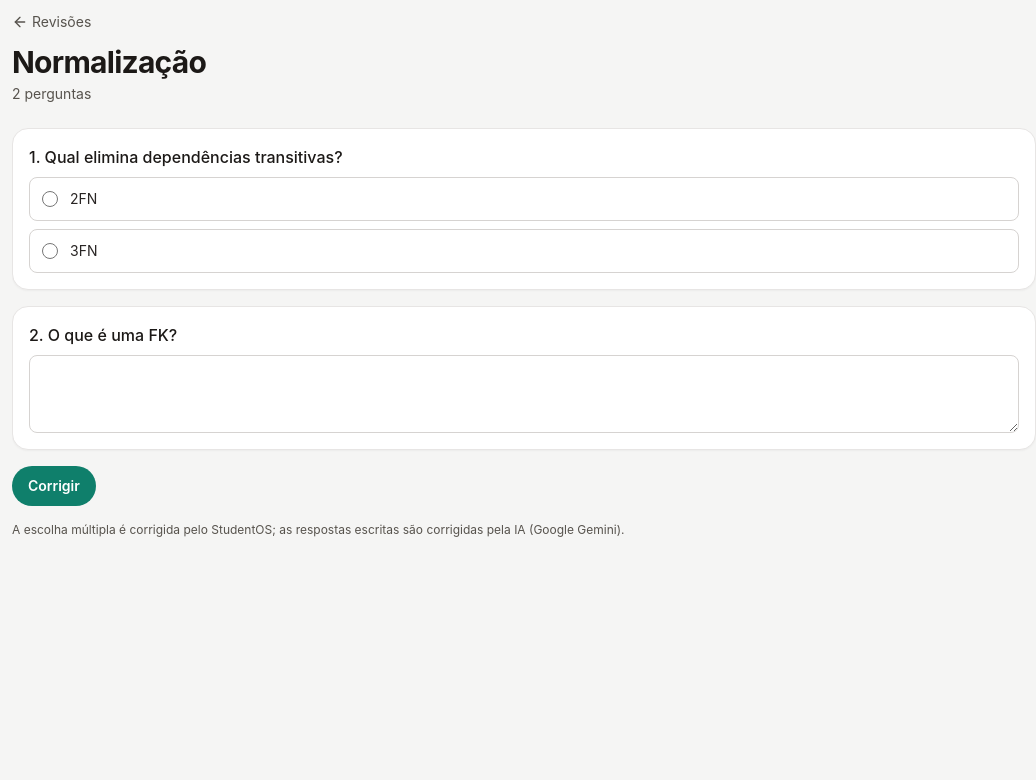
Test: envia as respostas pela ordem e mostra a correção com a resposta certa
Step 1. Click the radio button labelled "2FN" → click(50, 199), box [42,191,58,207]
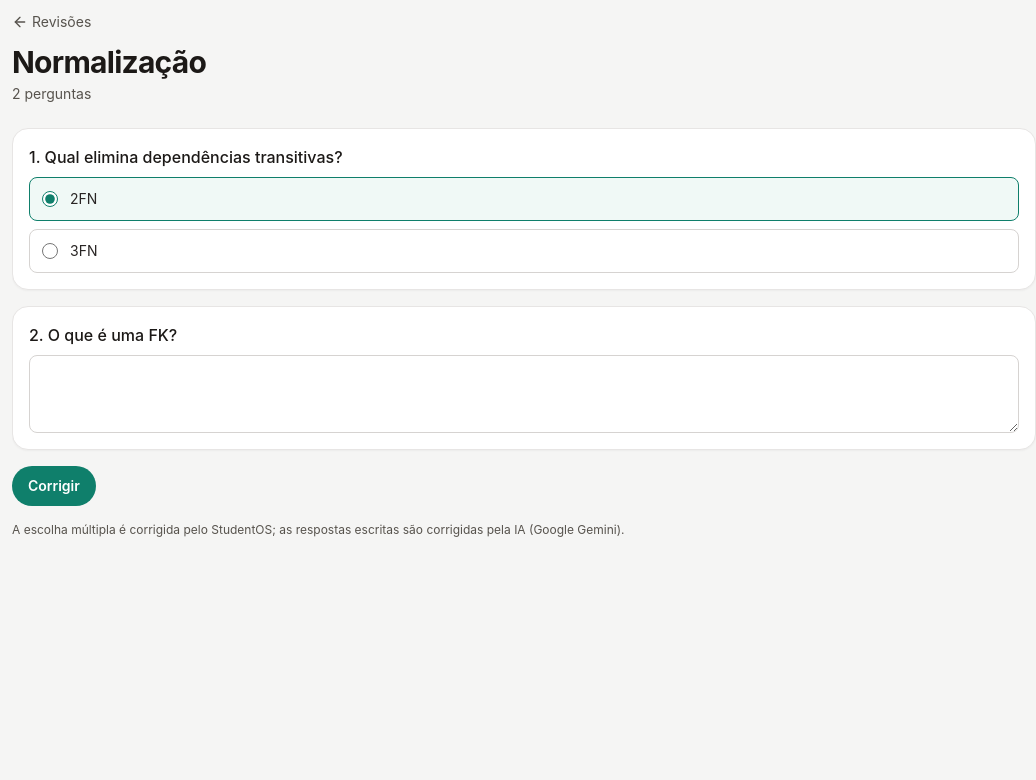
Step 2. Type " liga tabelas " into the text box labelled "2. O que é uma FK?" → (524, 394), box [29,355,1019,433]
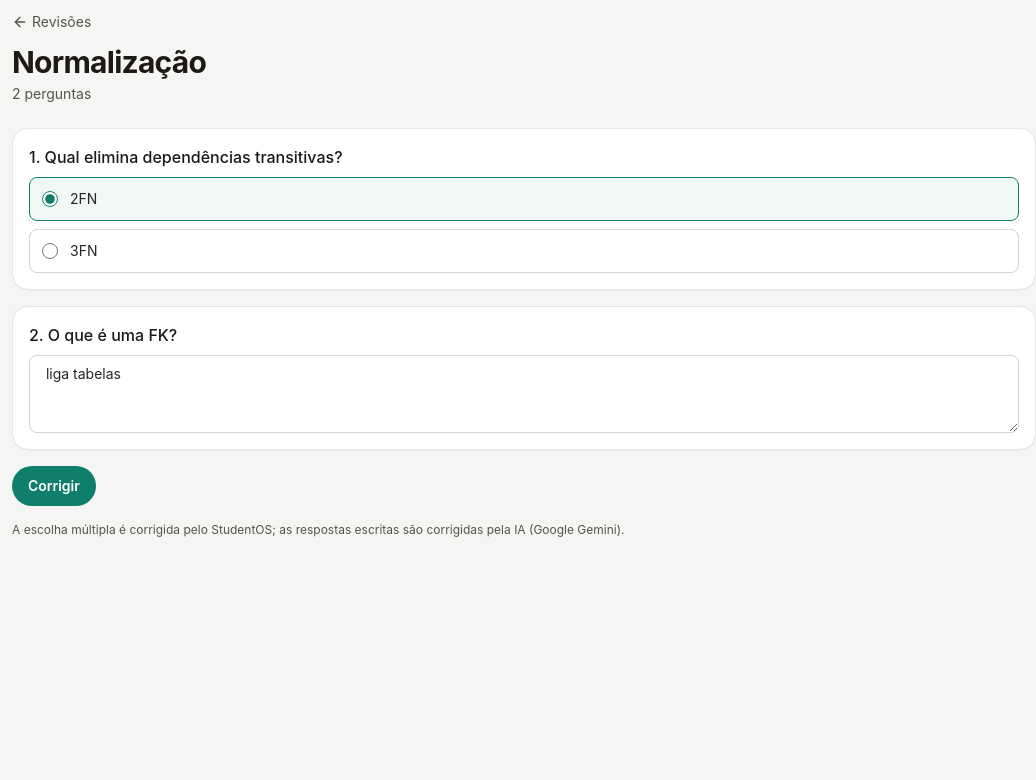
Step 3. Click the button "Corrigir" → click(54, 486), box [12,466,96,506]
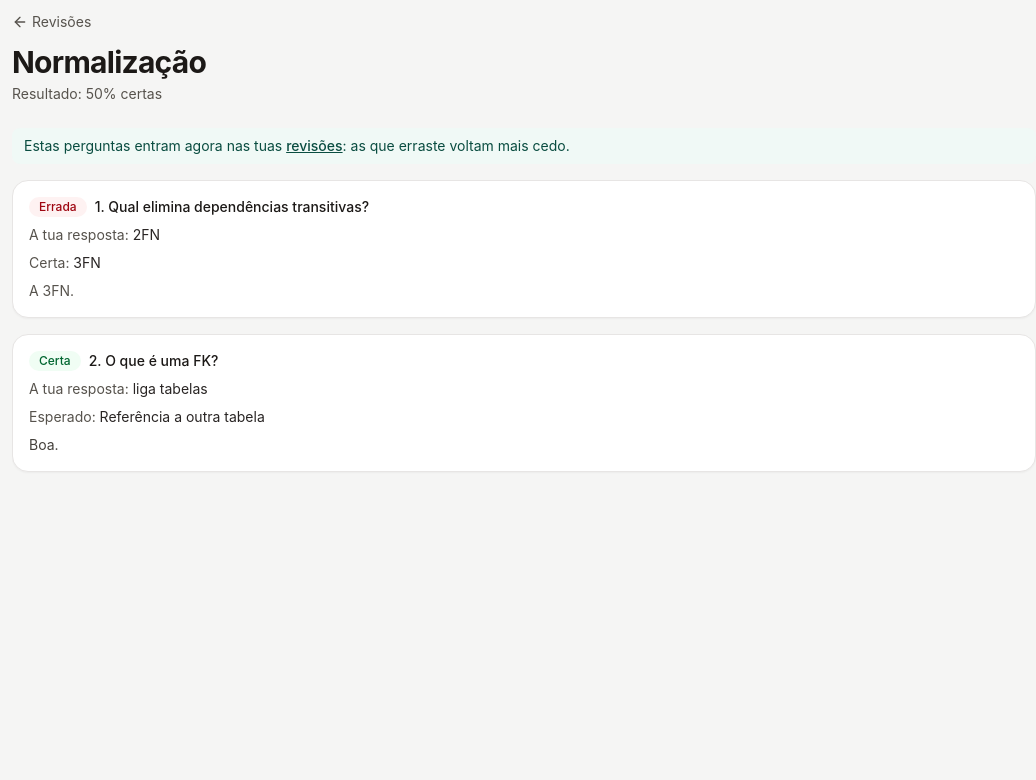
Expected: the text "Resultado: 50% certas" is shown, [12,85,162,102]
Expected: the text "Errada" is shown, [29,197,87,217]
Expected: the text "Certa" is shown, [29,351,81,371]
